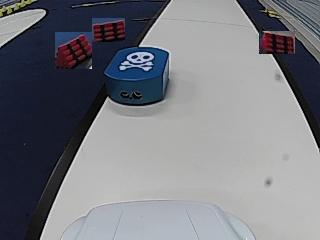danger: (119, 51, 152, 71)
